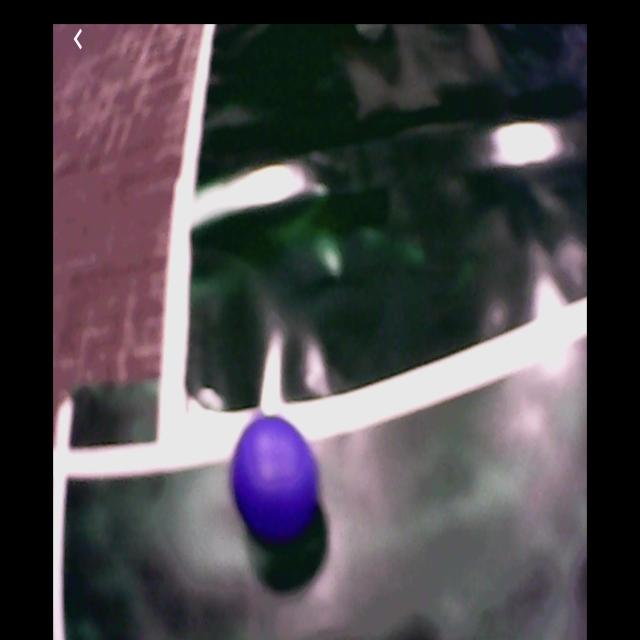ball: (227, 412, 318, 546)
